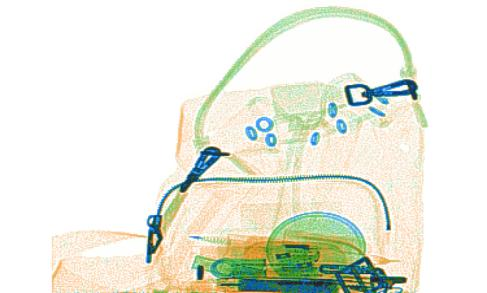USBFlashDisk: (188, 256, 267, 279)
